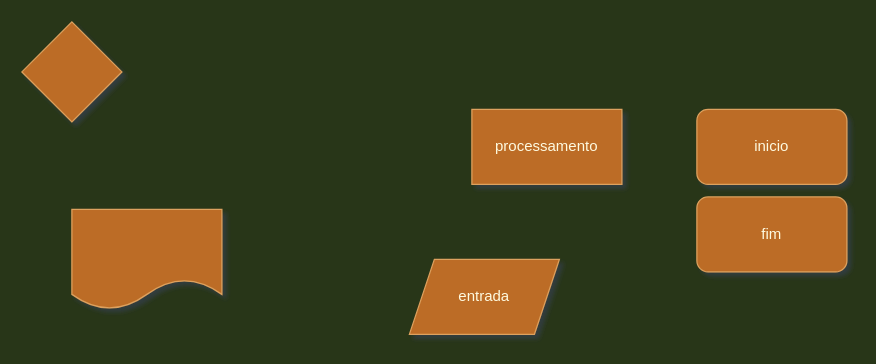
The diagram is 876 pixels wide and 364 high, and some of its shapes have lost their labels. Each missing label, with the box of its shape:
condicional: (21, 21, 122, 122)
saida: (71, 208, 222, 309)
